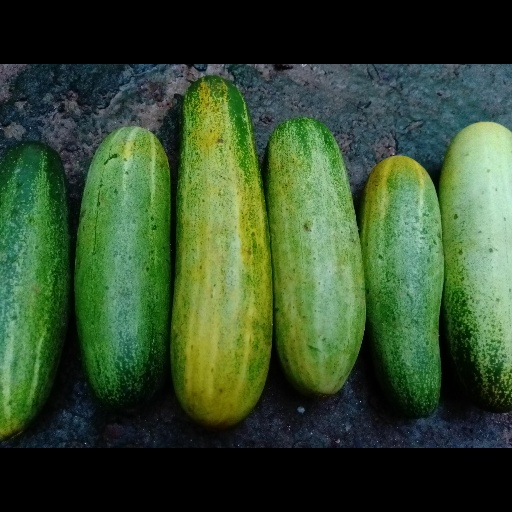concombre: (169, 75, 272, 434), (260, 117, 366, 399), (74, 125, 171, 417), (356, 155, 444, 420), (1, 142, 74, 444), (438, 122, 512, 413)
